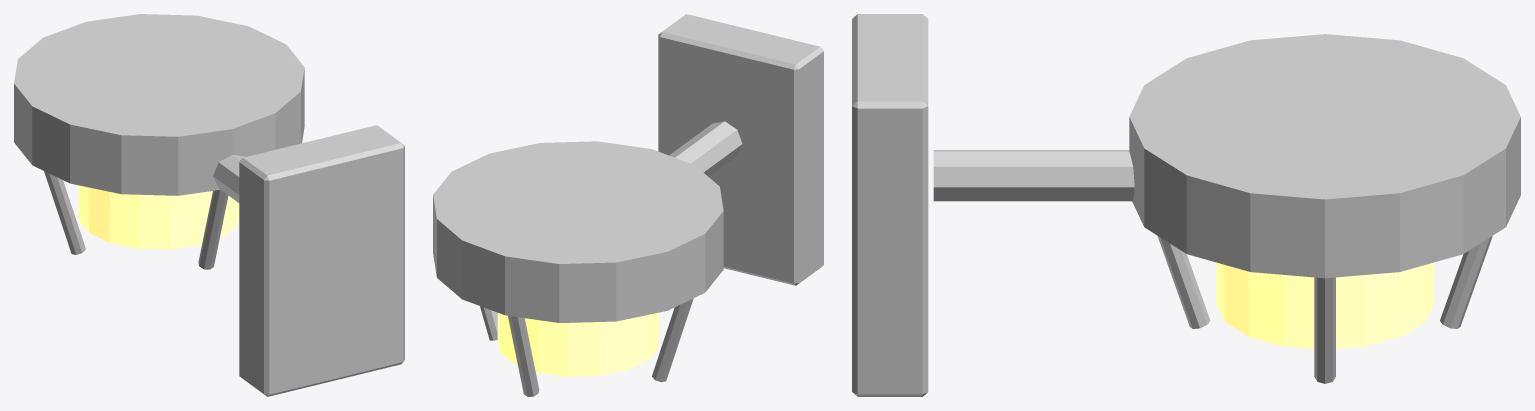
Rendered from env_wall_lamp_lod0.glb.
The picture shows the model from 3 angles, left to right: view 1: azimuth 30°, elevation 25°; view 2: azimuth 150°, elevation 25°; view 3: azimuth 270°, elevation 25°; orthographic projection. The views are drawn at different scales.
Visible parts, largest first — view 1: env_wall_lamp__shell_mesh; view 2: env_wall_lamp__shell_mesh; view 3: env_wall_lamp__shell_mesh.
Part boxes in pixels (bbox=[...]): env_wall_lamp__shell_mesh: bbox=[14, 14, 404, 396]; env_wall_lamp__shell_mesh: bbox=[433, 14, 823, 396]; env_wall_lamp__shell_mesh: bbox=[852, 14, 1520, 396].
Size of the model in its own units: 0.36 by 0.3 by 0.615.
